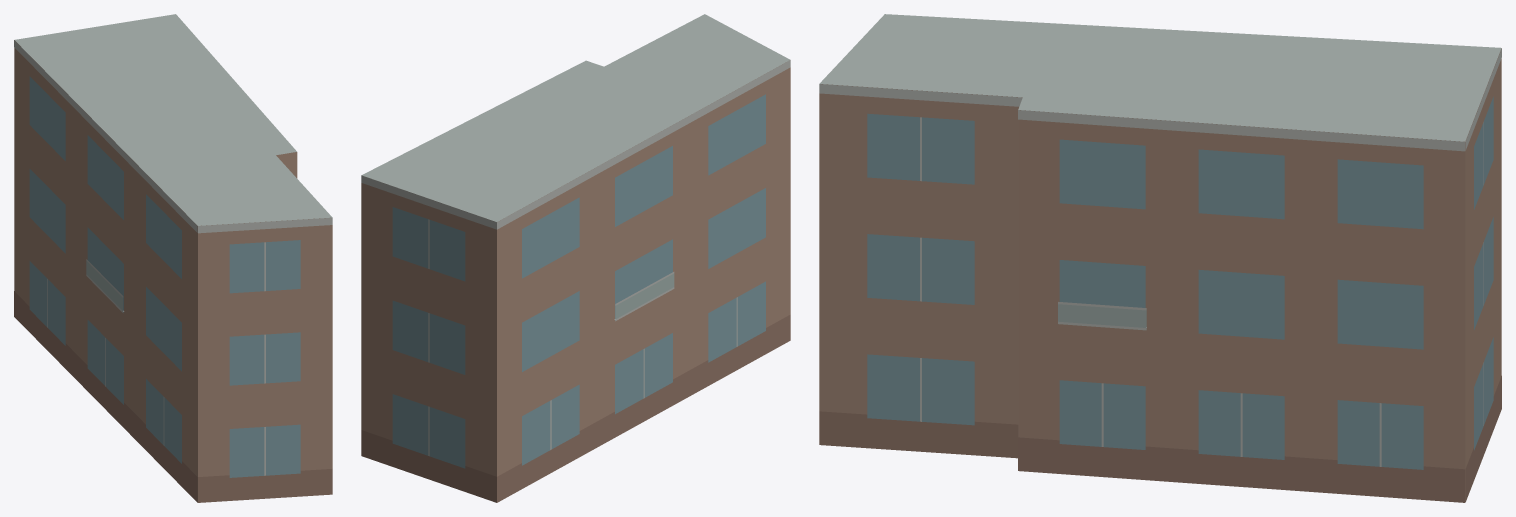
The model's file is survey-upis-32946522.glb.
3 renders of one model, left to right at view 1: azimuth 30°, elevation 25°; view 2: azimuth 150°, elevation 25°; view 3: azimuth 270°, elevation 25°, orthographic. The views are drawn at different scales.
Visible parts, largest first — view 1: survey-upis-32946522.tmp; view 2: survey-upis-32946522.tmp; view 3: survey-upis-32946522.tmp.
Part boxes in pixels (x1,y1,x2,y2): survey-upis-32946522.tmp: (14, 14, 332, 502); survey-upis-32946522.tmp: (361, 14, 790, 502); survey-upis-32946522.tmp: (819, 14, 1501, 502).
Bounding box in the file's own units: 6.96 × 9.15 × 15.69.
